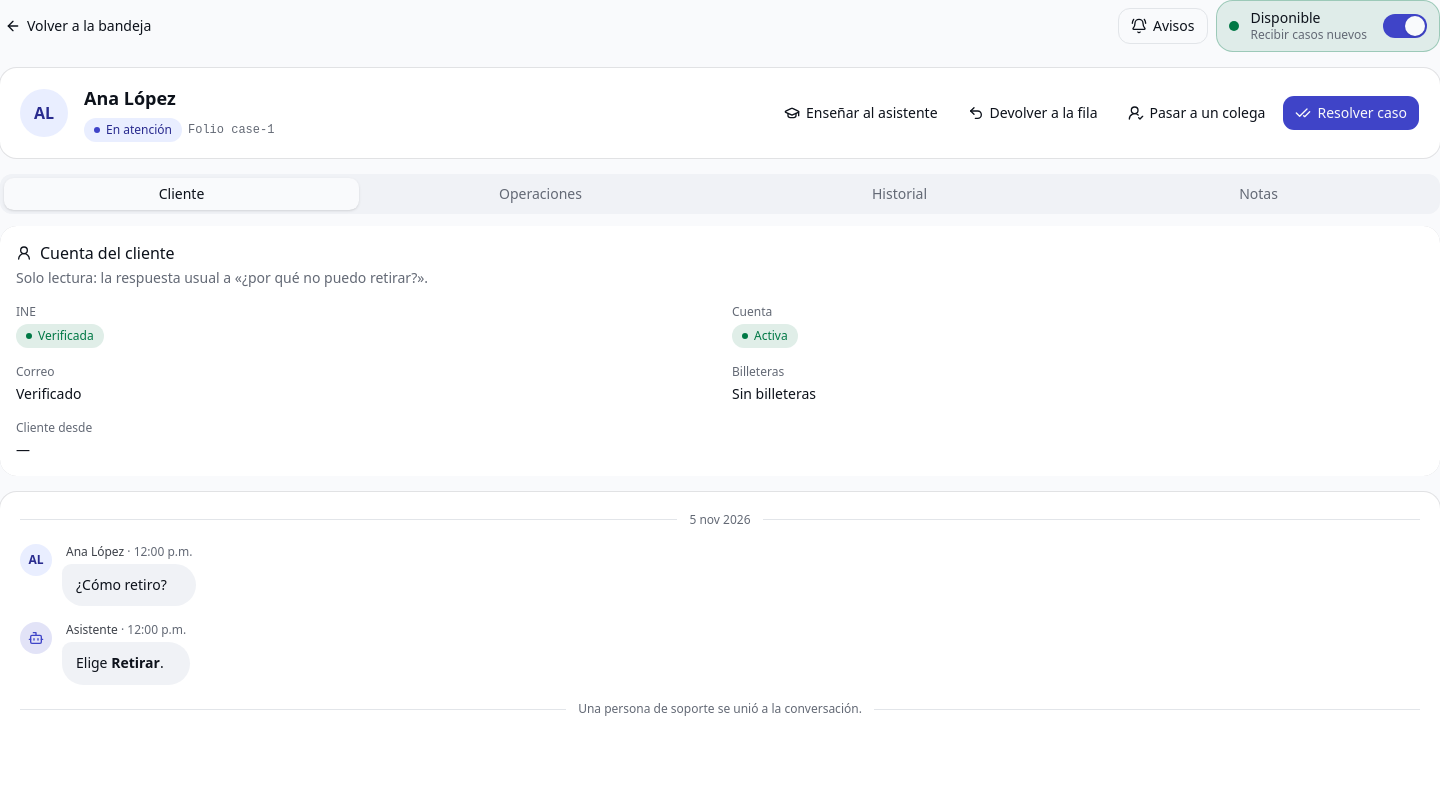
the customer's operations, for the agent attending them › escalates one to the administrators with what happened
Click the tab "Operaciones" at point(540, 194), box [363,178,718,210]
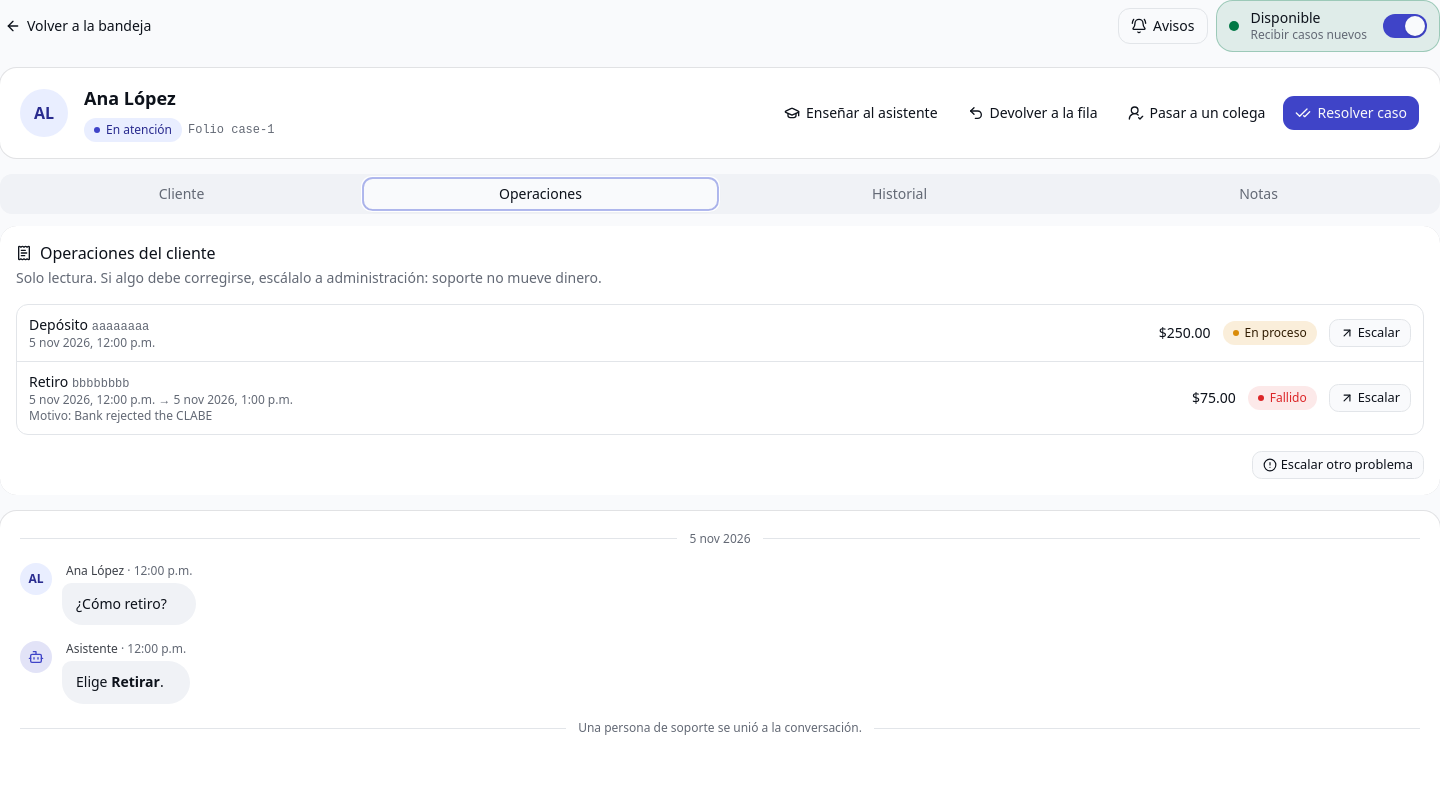
Click the button with aria-label "Escalar Depósito aaaaaaaa" at point(1370, 332), box [1329,318,1411,346]
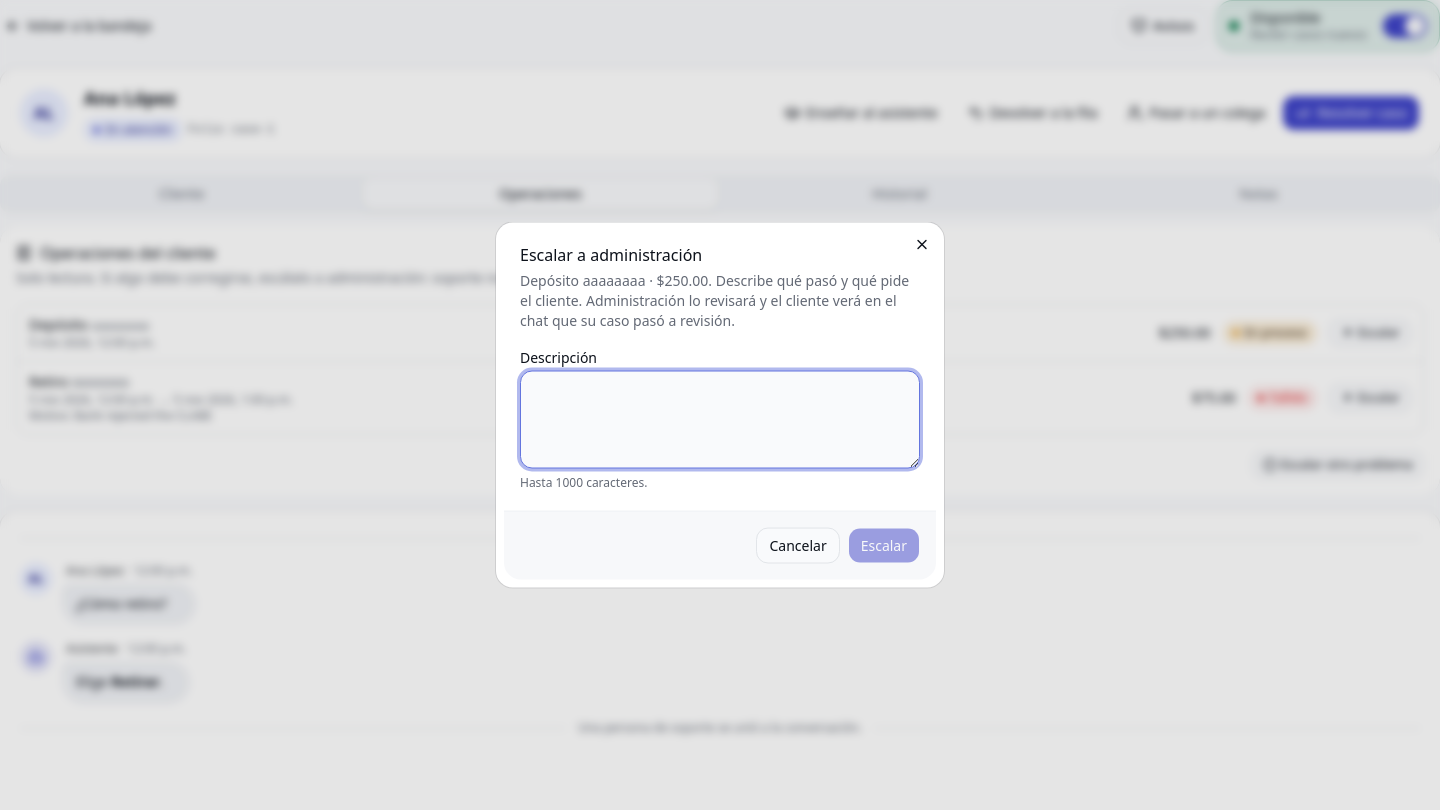
Type "El cliente pagó y no llegó" into the text box labelled "Descripción" at point(720, 420), box [520,370,920,468]
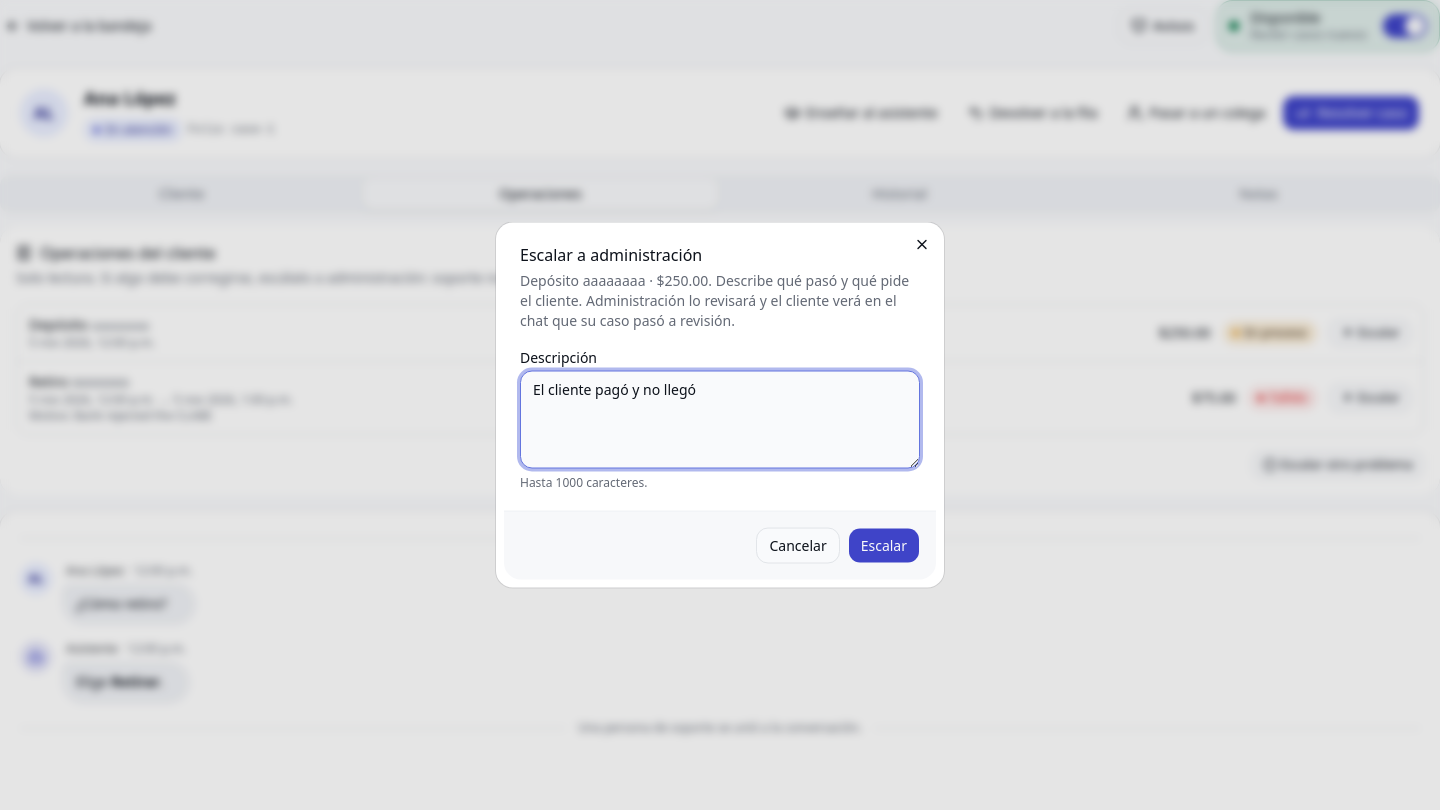
Click the button "Escalar" at point(884, 546), box [848,528,920,564]
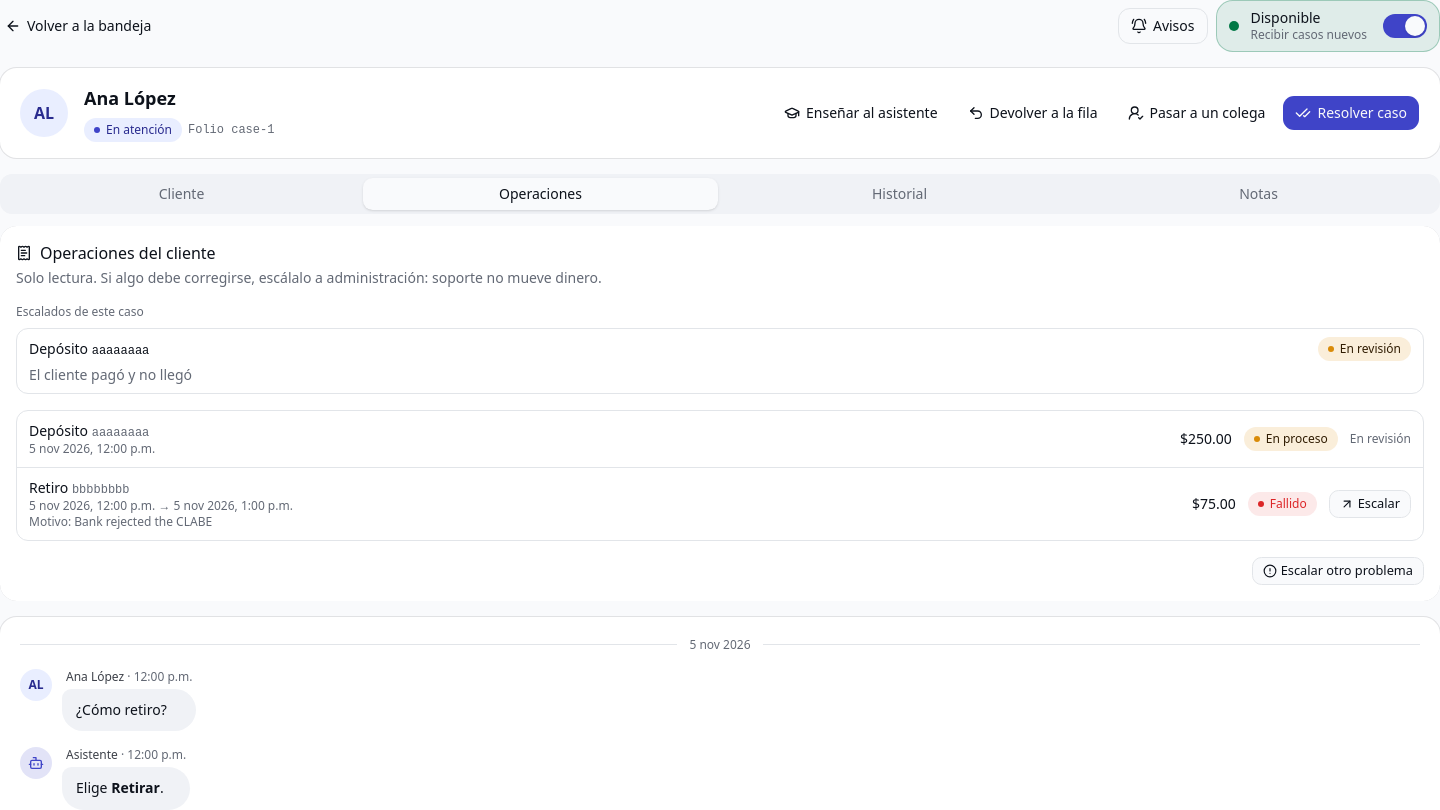
Now the button with aria-label "Escalar Retiro" is shown, box [1329,490,1411,518]
Now the heading "Escalados de este caso" is shown, box [16,302,144,320]
